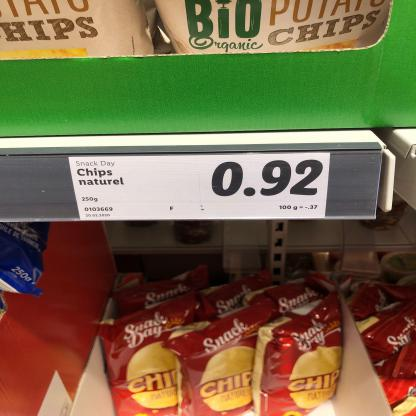prtg: (68, 154, 332, 222)
